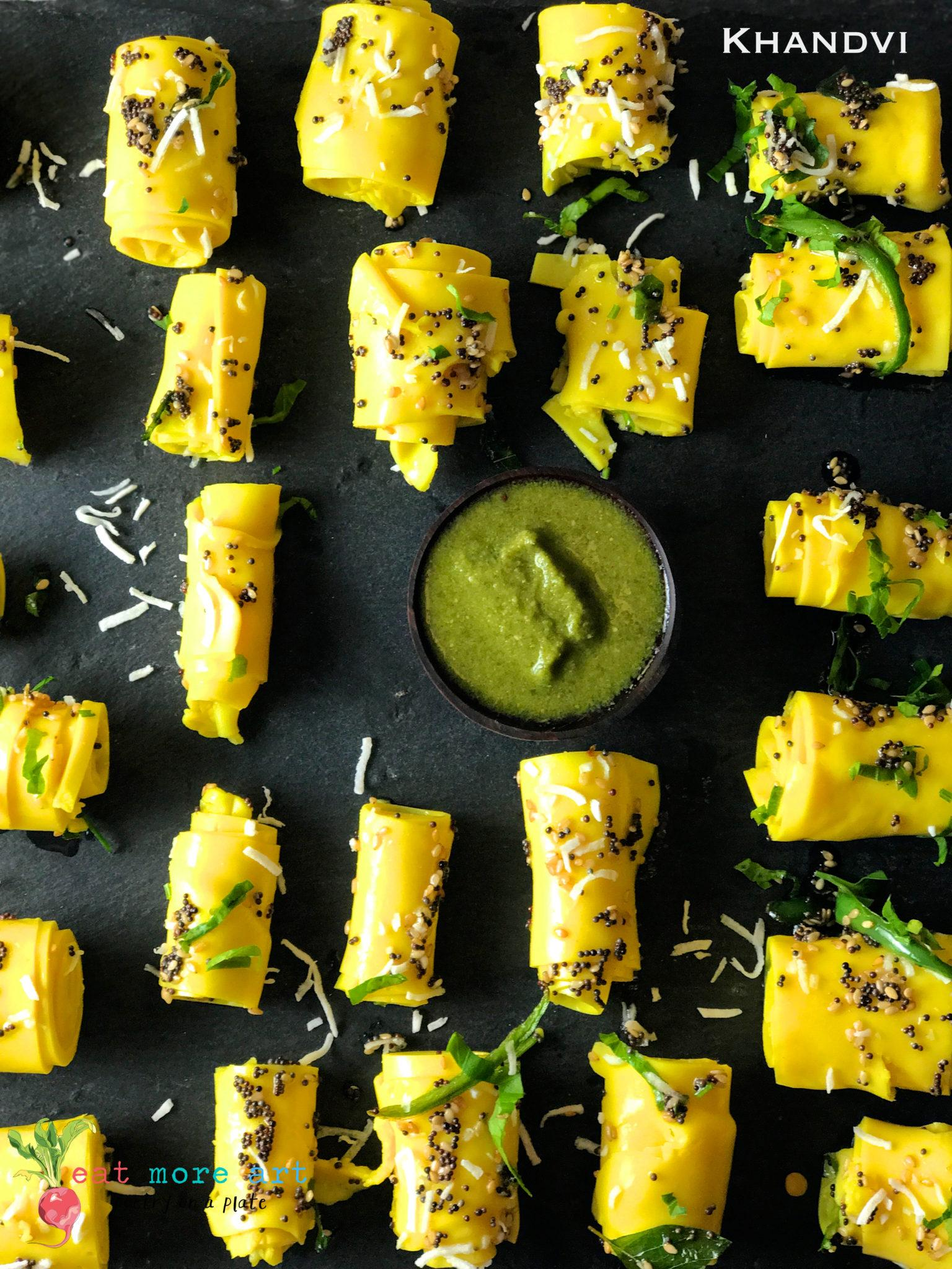khandvi: (108, 753, 942, 1269), (99, 37, 952, 434)
